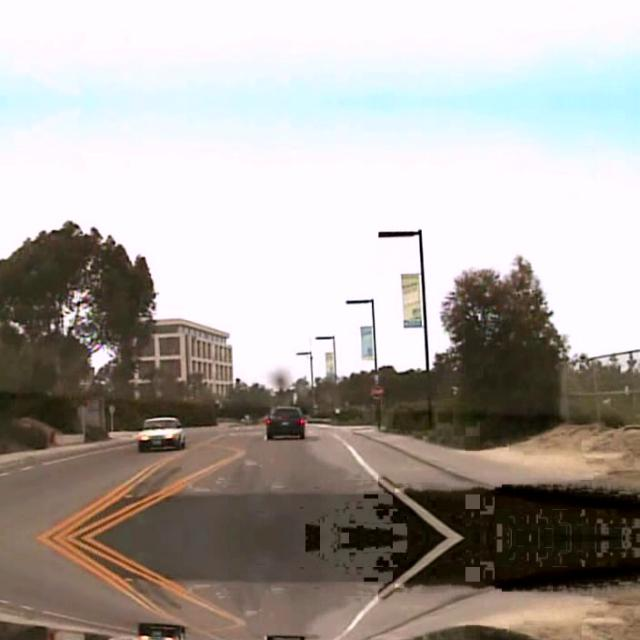stop: (370, 384, 382, 396)
